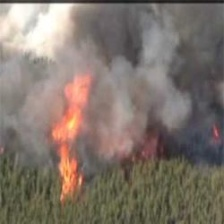fire: (49, 68, 93, 196)
smoke: (98, 5, 220, 164), (2, 5, 42, 163)
